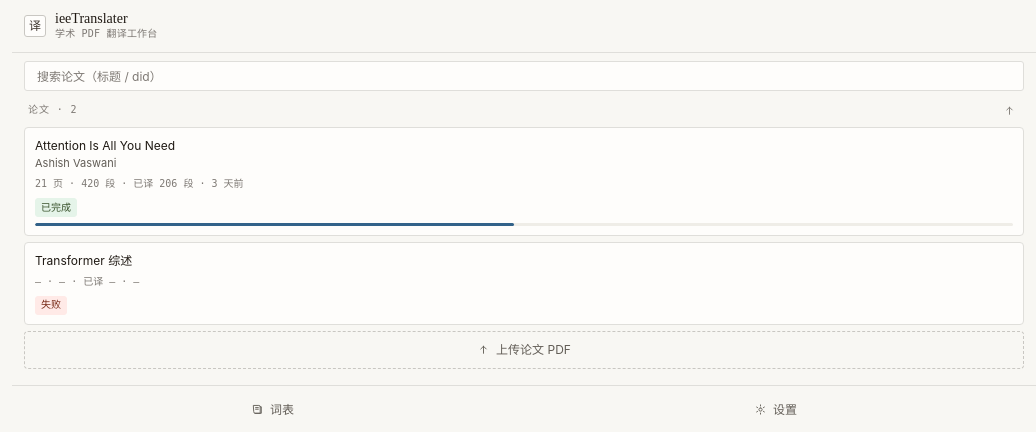
Test: PaperNav 右键删除（DELETE /documents/{did}） › 菜单是单一实例，Esc 关闭
Expected: the text "Attention Is All You Need" is shown, [35,138,175,153]
Right-click the button with aria-label "Attention Is All You Need" at [105, 146], box [24,127,1024,236]
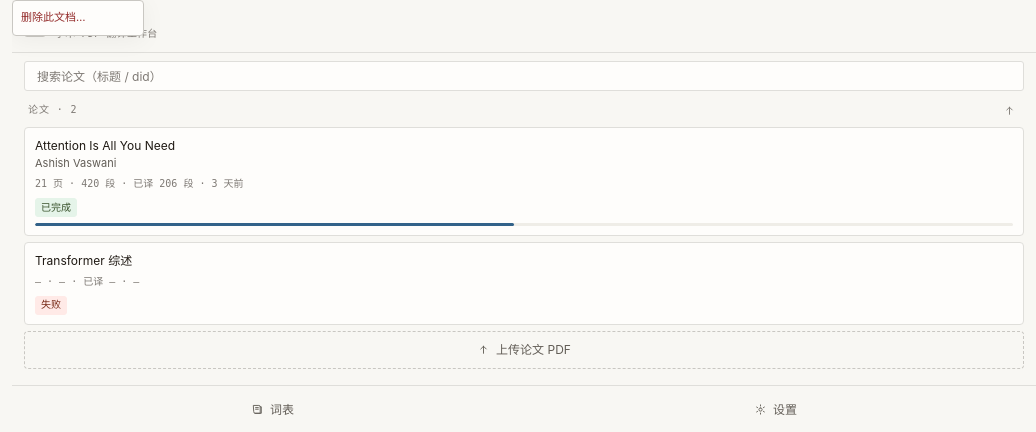
Now the number of menus is 1, box [12,0,144,36]
Press Escape
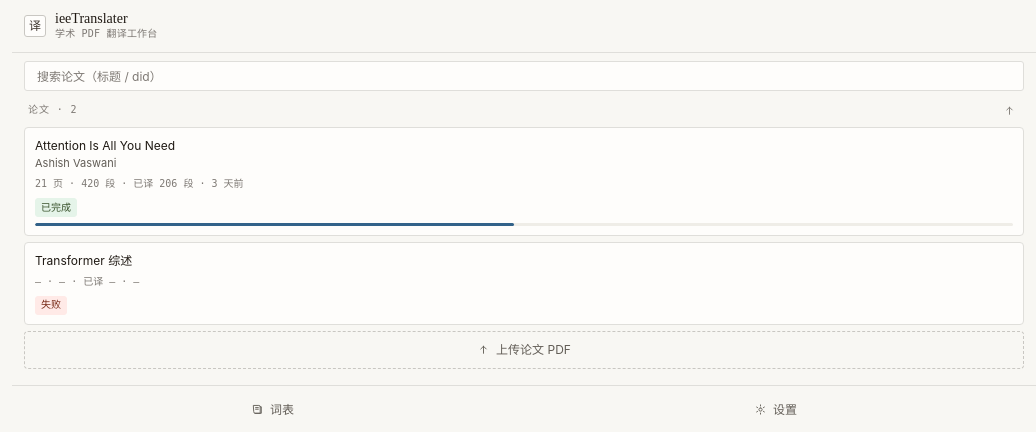
Now the menu is gone
Right-click the button "Transformer 综述 — · — · 已译 — · — 失败" at [84, 261], box [24,242,1024,325]
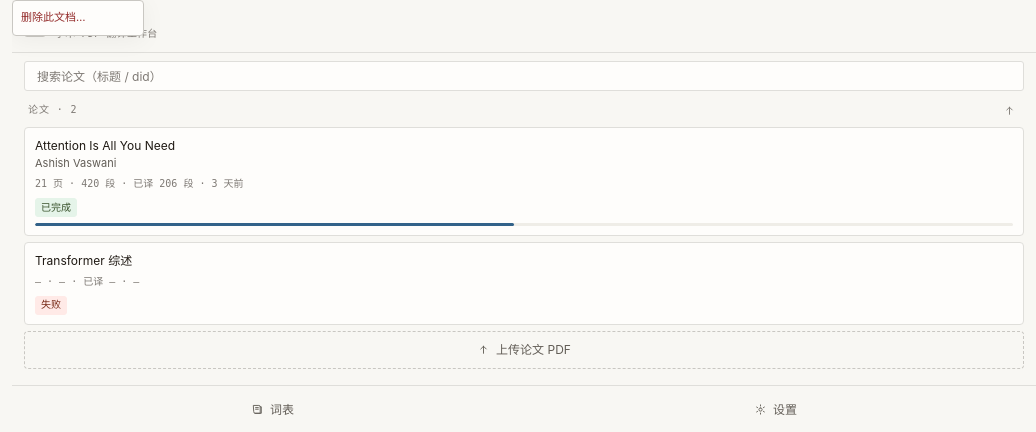
Now the number of menus is 1, box [12,0,144,36]
